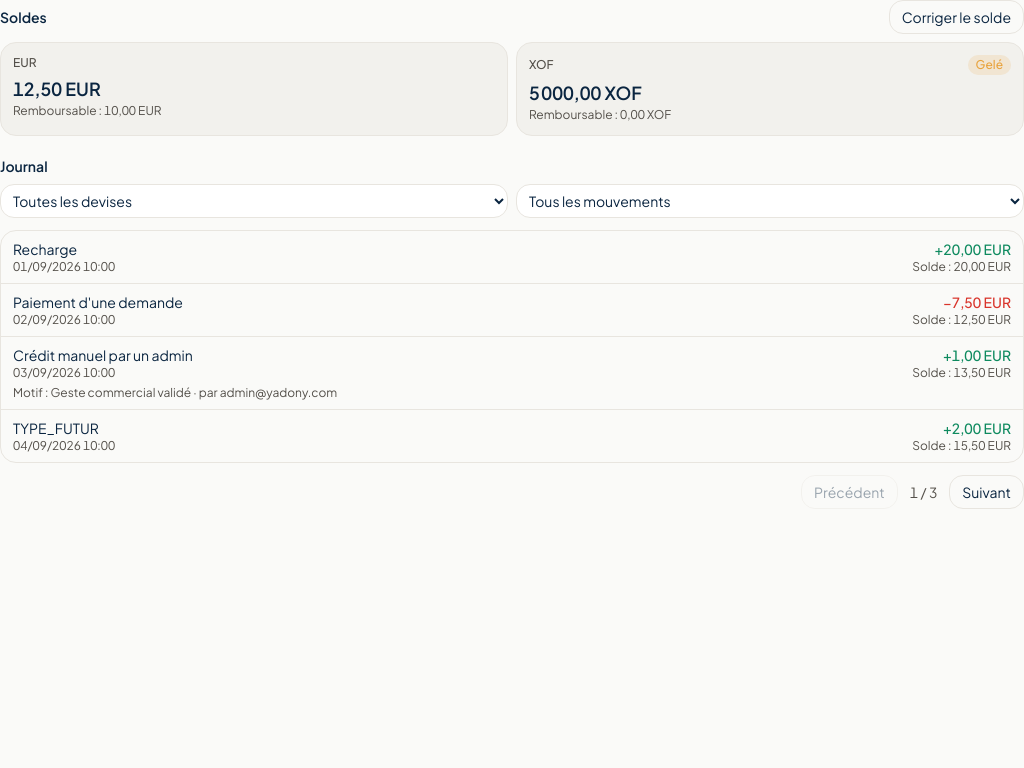
UserWalletTab › correction réussie : clé d’idempotence envoyée, soldes et journal rafraîchis, message de succès
This screenshot has width=1024, height=768.
Click the button with test id "wallet-adjust-open".
click(956, 17)  # box [889,0,1023,34]
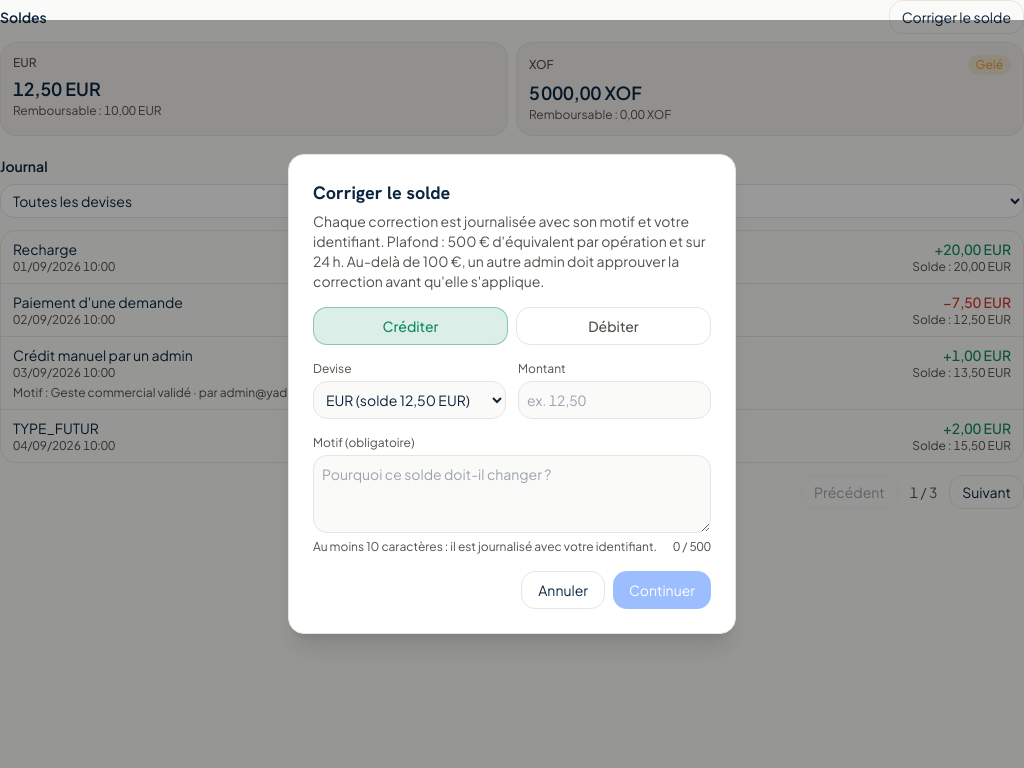
Type "5" into the field with test id "adj-amount".
click(614, 400); type("5")  # box [518,381,711,419]
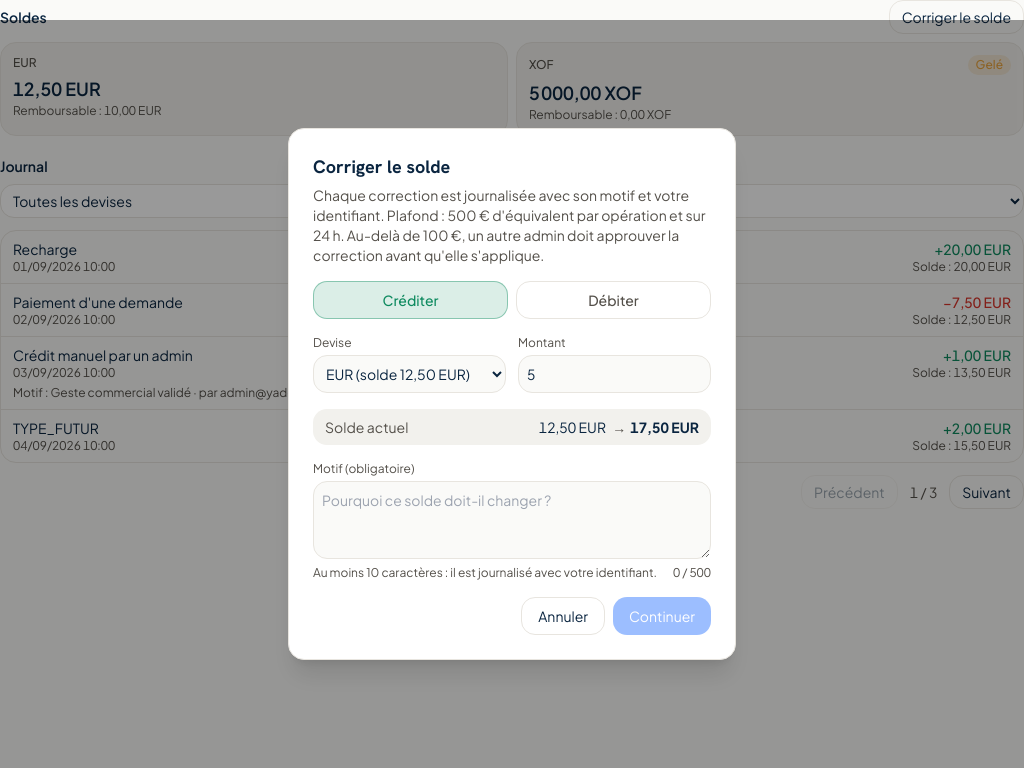
Type "Correction après double débit constaté" into the text box with test id "adj-reason".
click(512, 520); type("Correction après double débit constaté")  # box [313,481,711,559]
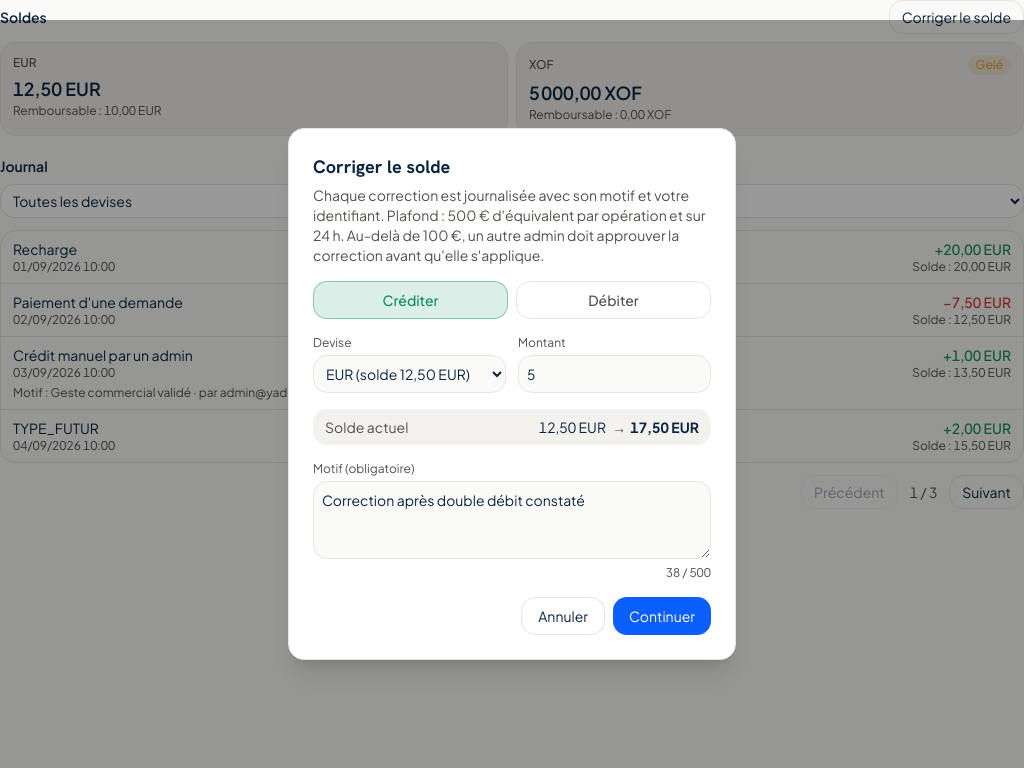
Click the button with test id "adj-continue".
click(662, 616)  # box [613,597,711,635]
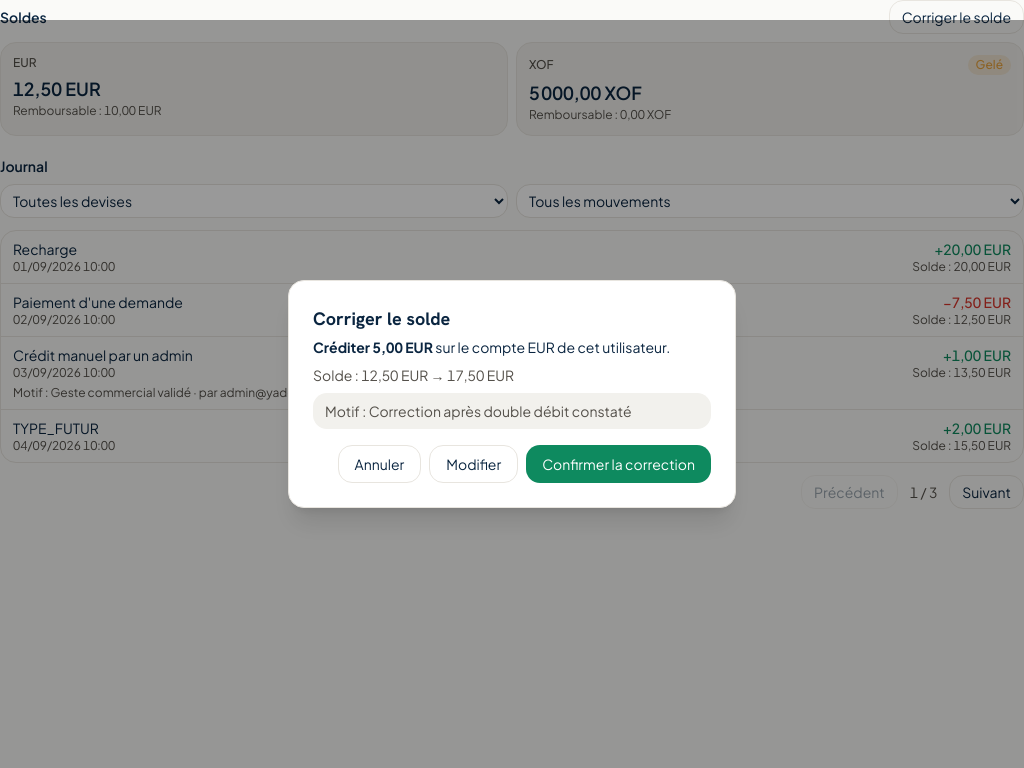
Click the button with test id "adj-confirm".
click(619, 464)  # box [526,445,711,483]
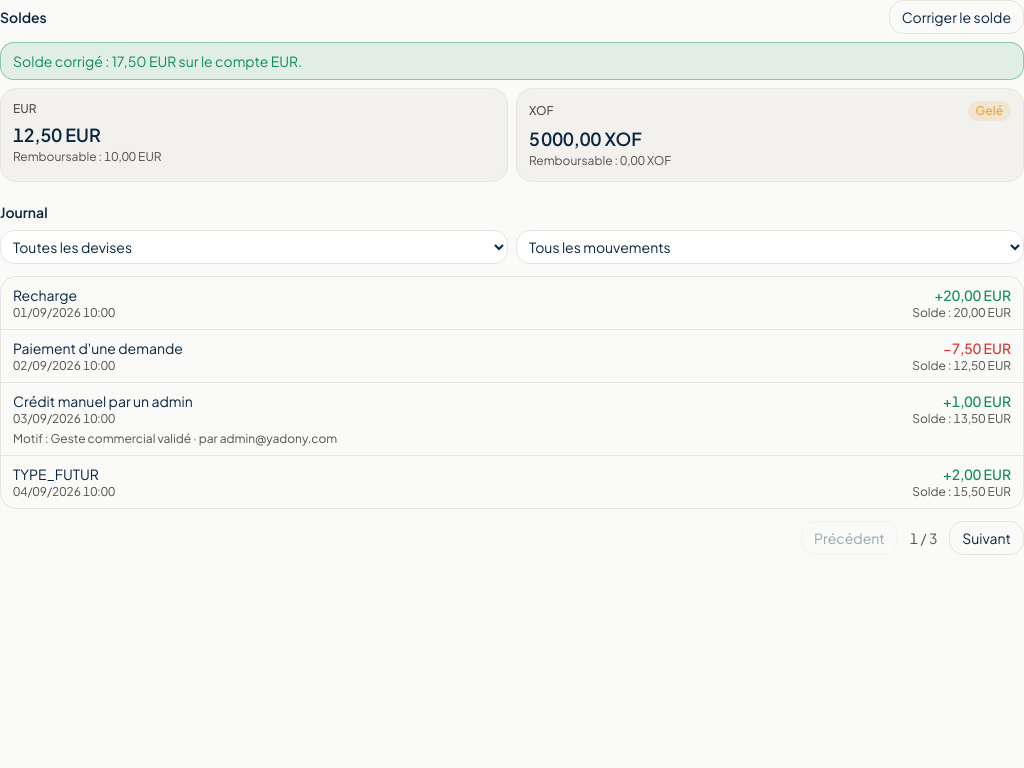
Expected: the message with test id "wallet-success" shows "Solde corrigé", [13,52,302,70]
Expected: the message with test id "wallet-success" shows "17,50 EUR", [13,52,302,70]
